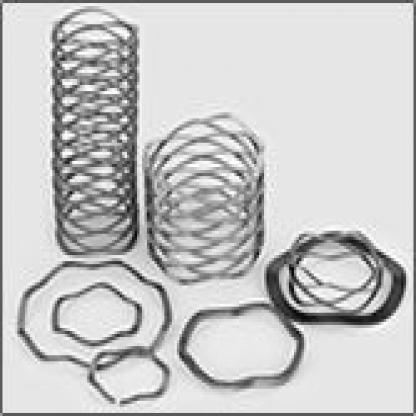FOD: (46, 6, 146, 261)
